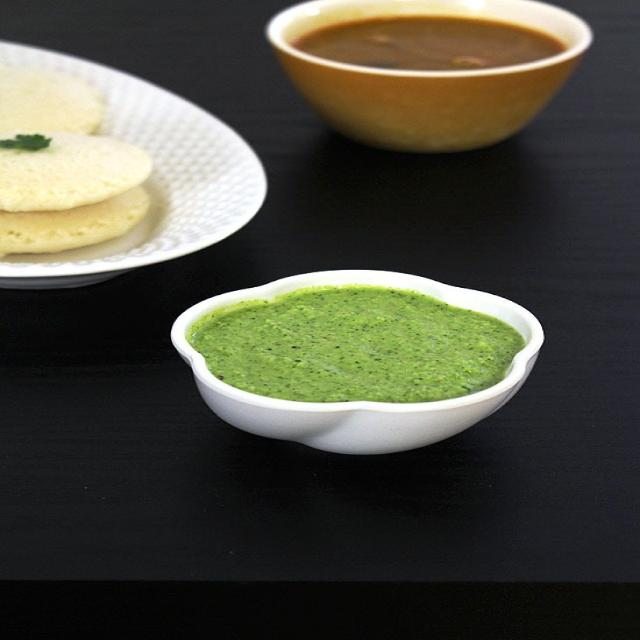puthina chutney: (160, 260, 551, 419)
